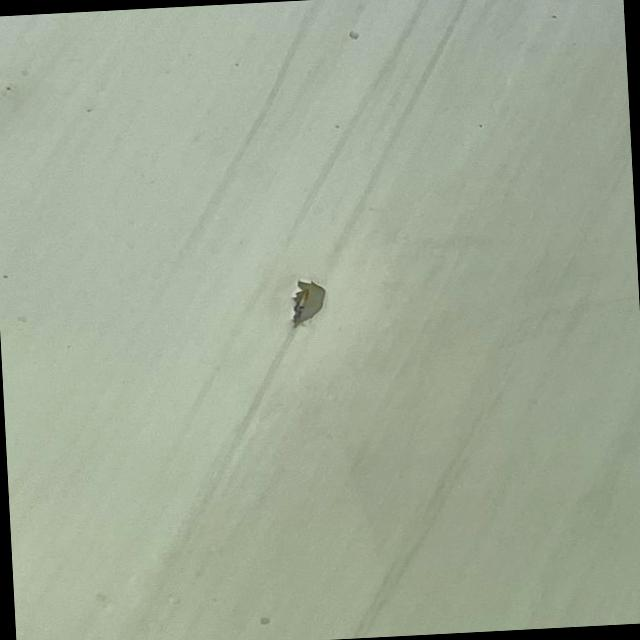crack: (278, 276, 332, 334)
